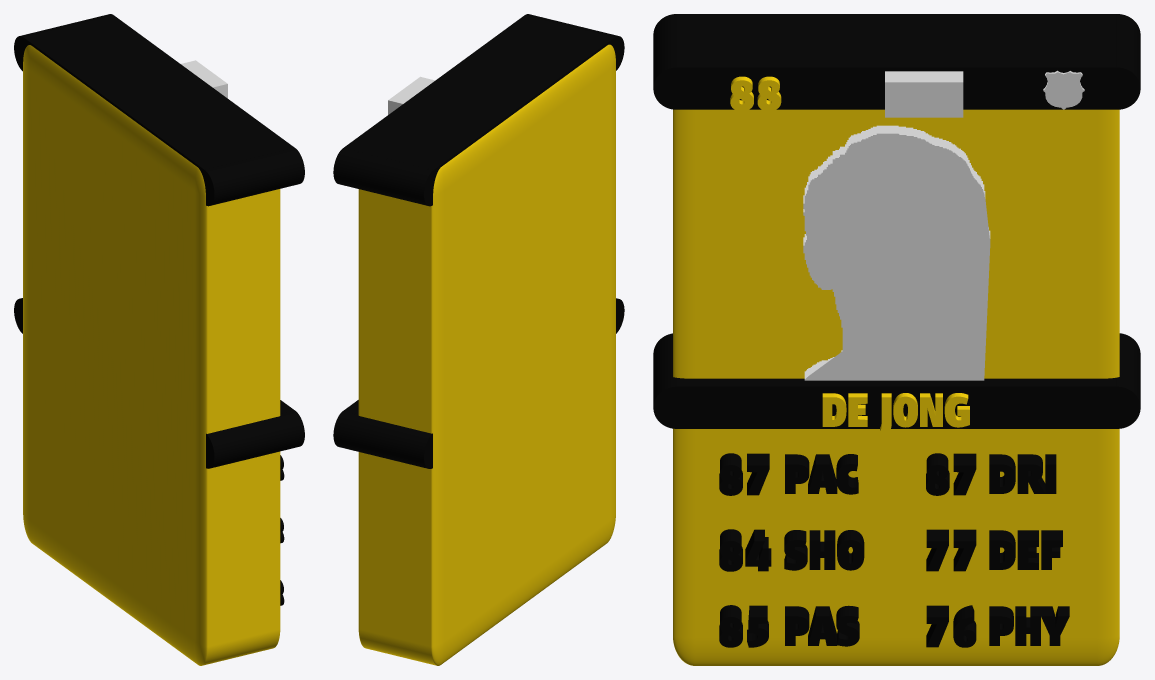
Rendered from DE JONG.fbx.
3 views of the same model, side by side, from view 1: azimuth 30°, elevation 25°; view 2: azimuth 150°, elevation 25°; view 3: azimuth 270°, elevation 25° (orthographic). The views are drawn at different scales.
Parts seen in each view (by area): view 1: Куб, Цилиндр.002, Цилиндр.001, Куб.001; view 2: Куб, Цилиндр.002, Цилиндр.001, Куб.001; view 3: Куб, Цилиндр.002, Плоскость, Цилиндр.001, Текст.006, Куб.001, Текст, Текст.002, Текст.005, Текст.004, Текст.001, Текст.003 (+8 smaller).
Part boxes in pixels (left/top/right/bottom): Куб: left=23, top=45, right=280, bottom=665; Цилиндр.002: left=14, top=14, right=304, bottom=206; Цилиндр.001: left=14, top=298, right=304, bottom=468; Куб.001: left=181, top=60, right=227, bottom=98; Куб: left=358, top=44, right=615, bottom=665; Цилиндр.002: left=333, top=14, right=624, bottom=206; Цилиндр.001: left=333, top=298, right=624, bottom=468; Куб.001: left=388, top=76, right=435, bottom=114; Куб: left=673, top=109, right=1119, bottom=665; Цилиндр.002: left=653, top=14, right=1140, bottom=109; Плоскость: left=803, top=125, right=990, bottom=380; Цилиндр.001: left=653, top=333, right=1140, bottom=428; Текст.006: left=822, top=393, right=969, bottom=434; Куб.001: left=885, top=71, right=963, bottom=117; Текст: left=784, top=530, right=864, bottom=570; Текст.002: left=785, top=605, right=859, bottom=646; Текст.005: left=989, top=606, right=1069, bottom=645; Текст.004: left=989, top=530, right=1062, bottom=569; Текст.001: left=785, top=454, right=858, bottom=494; Текст.003: left=989, top=454, right=1056, bottom=493.
Bounding box in the file's own units: 280 × 1202 × 872.
